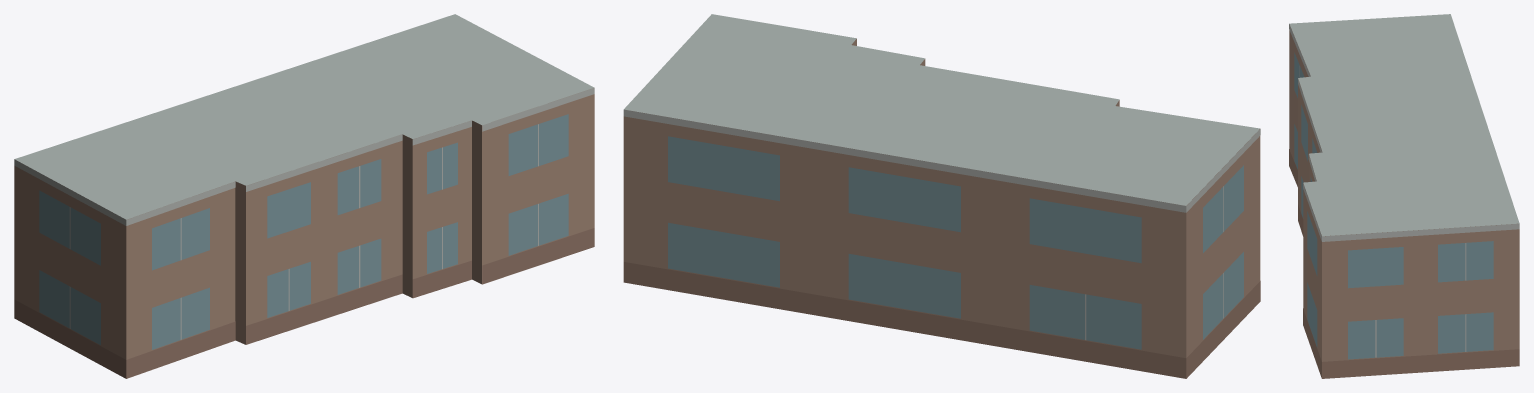
The model's file is survey-upis-32606481.glb.
The picture shows the model from 3 angles, left to right: view 1: azimuth 30°, elevation 25°; view 2: azimuth 150°, elevation 25°; view 3: azimuth 270°, elevation 25°; orthographic projection. The views are drawn at different scales.
Visible parts, largest first — view 1: survey-upis-32606481.tmp; view 2: survey-upis-32606481.tmp; view 3: survey-upis-32606481.tmp.
Boxes of the visible parts, x1,y1,x2,y2 form: survey-upis-32606481.tmp: (14,14,594,378); survey-upis-32606481.tmp: (623,14,1260,378); survey-upis-32606481.tmp: (1289,14,1519,378).
Bounding box in the file's own units: 20.41 × 6.1 × 8.94.
